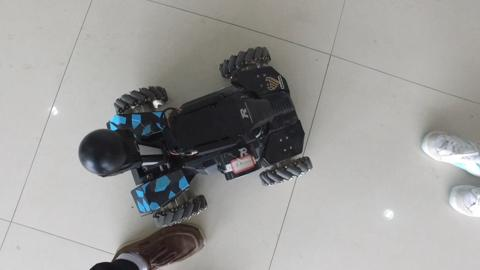chariot: (89, 49, 301, 204)
